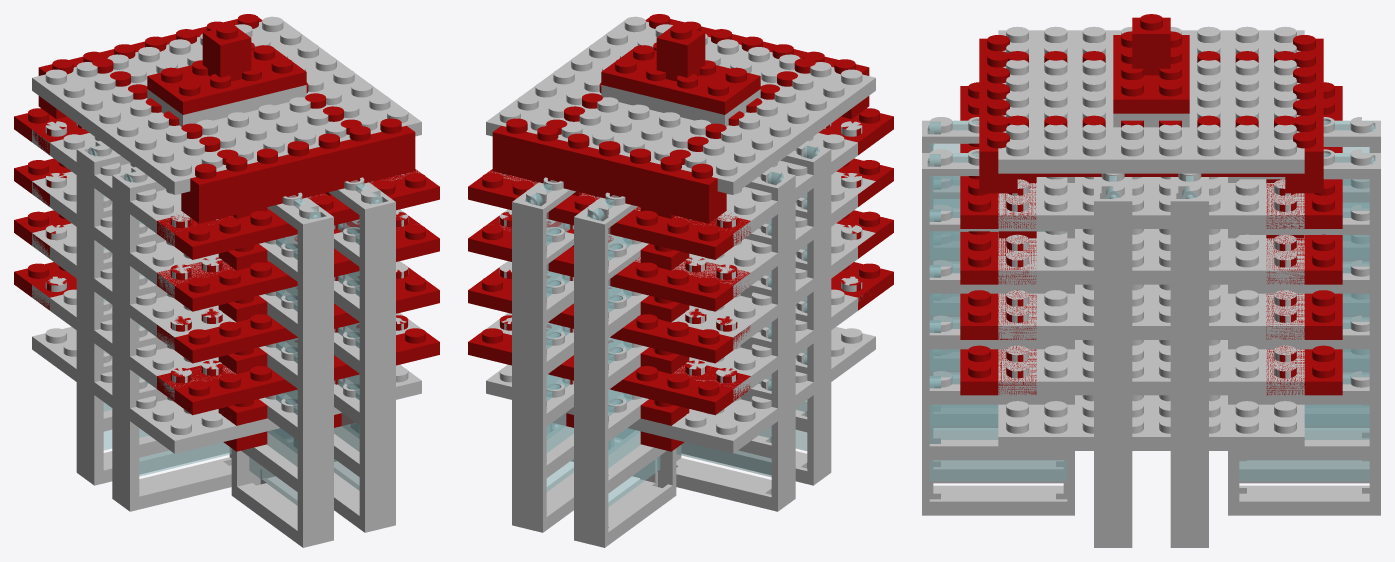
File: 004-generated_skyscraper.glb
3 views of the same model, side by side, from view 1: azimuth 30°, elevation 25°; view 2: azimuth 150°, elevation 25°; view 3: azimuth 270°, elevation 25° (orthographic). The views are drawn at different scales.
Parts seen in each view (by area): view 1: 60594.dat (×19), 3035.dat (×12), 3034.dat (×8), 3010.dat (×4), 86210.dat (×9), 3020.dat (×2), 3005.dat (×6), 3009.dat (×3); view 2: 60594.dat (×20), 3035.dat (×12), 3034.dat (×8), 3010.dat (×4), 86210.dat (×11), 3020.dat (×2), 3005.dat (×6), 3009.dat (×3); view 3: 3035.dat (×12), 60594.dat (×29), 86210.dat (×11), 3034.dat (×8), 3010.dat (×4), 3020.dat (×2), 3009.dat (×4), 3005.dat (×2).
Boxes of the visible parts, <box> form: 60594.dat (×19): <box>76,141,395,547</box>; 3035.dat (×12): <box>32,16,421,453</box>; 3034.dat (×8): <box>14,108,439,415</box>; 3010.dat (×4): <box>38,14,415,223</box>; 86210.dat (×9): <box>139,180,382,505</box>; 3020.dat (×2): <box>147,45,306,126</box>; 3005.dat (×6): <box>202,24,267,451</box>; 3009.dat (×3): <box>92,58,361,164</box>; 60594.dat (×20): <box>512,141,831,547</box>; 3035.dat (×12): <box>486,16,875,453</box>; 3034.dat (×8): <box>468,108,893,415</box>; 3010.dat (×4): <box>492,14,869,223</box>; 86210.dat (×11): <box>525,180,771,506</box>; 3020.dat (×2): <box>601,45,760,126</box>; 3005.dat (×6): <box>640,24,705,451</box>; 3009.dat (×3): <box>546,58,815,164</box>; 3035.dat (×12): <box>998,26,1304,450</box>; 60594.dat (×29): <box>922,117,1380,547</box>; 86210.dat (×11): <box>927,121,1374,481</box>; 3034.dat (×8): <box>960,82,1342,395</box>; 3010.dat (×4): <box>979,35,1323,193</box>; 3020.dat (×2): <box>1113,31,1189,127</box>; 3009.dat (×4): <box>1008,51,1294,176</box>; 3005.dat (×2): <box>1132,14,1170,75</box>.
Size of the model in its own units: 0.064 by 0.1072 by 0.096.
